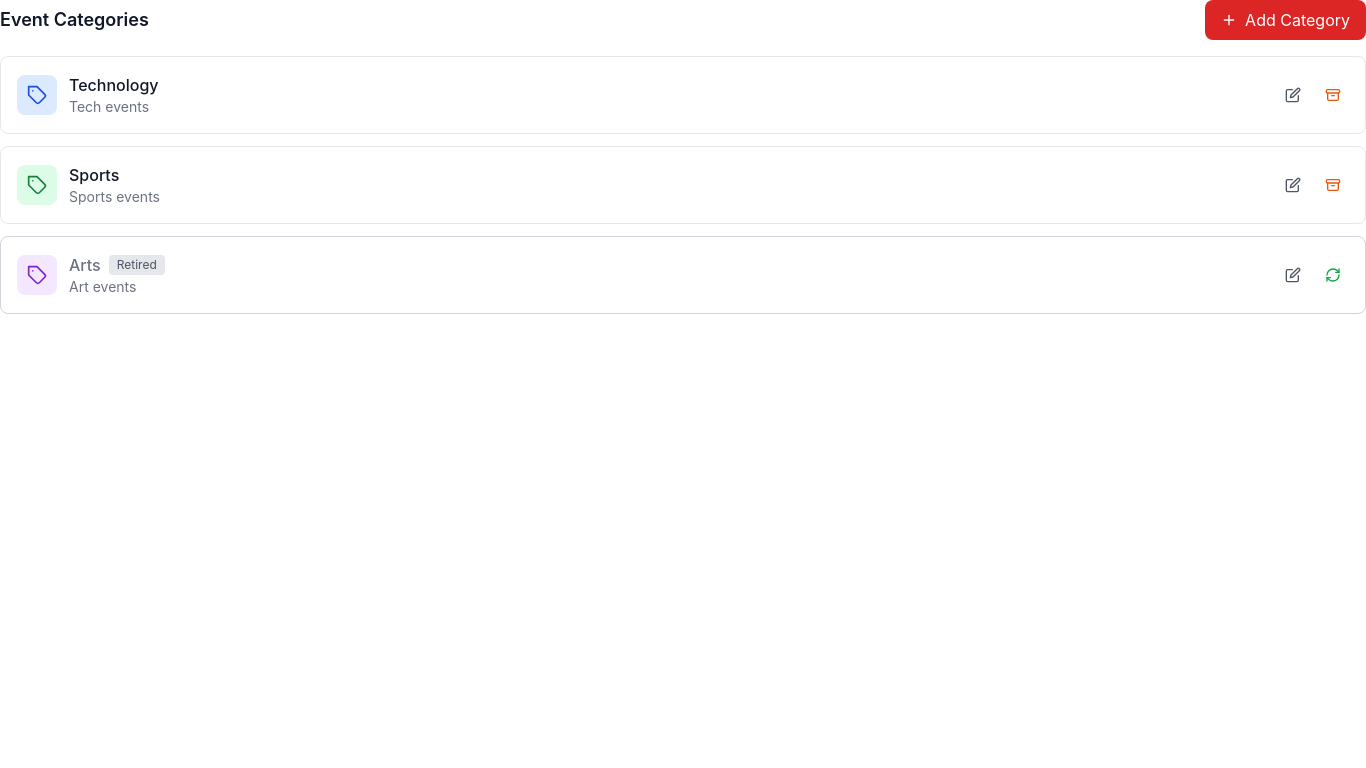
Test: CategoryVenueManager Component - Complete Coverage › Retire/Reactivate Functionality › cancels retire on cancel button
The width and height of the screenshot is (1366, 768).
Step 1. Click the button titled "Retire" in the row of "Technology" → (1333, 95), box x1=1317 y1=79 x2=1349 y2=111
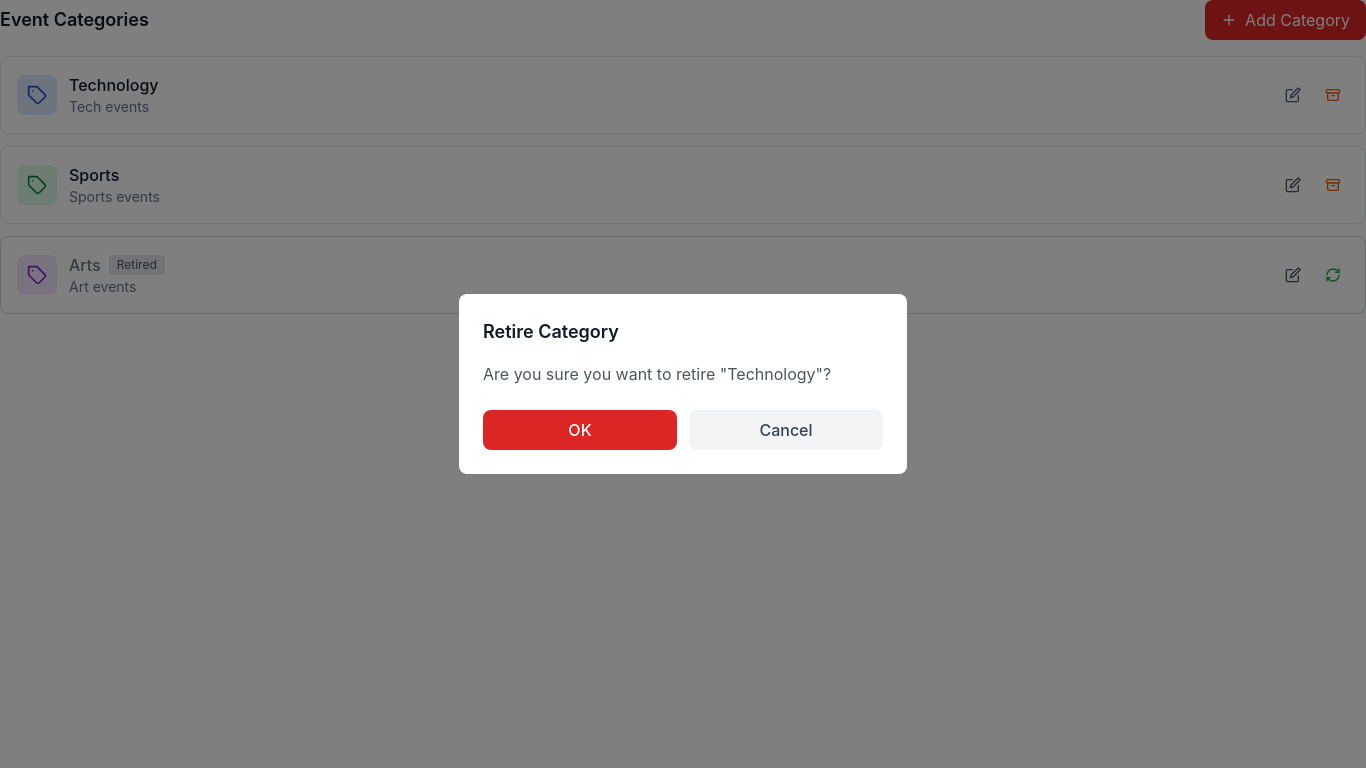
Step 2. Click the button "Cancel" → (786, 430), box x1=689 y1=410 x2=883 y2=450
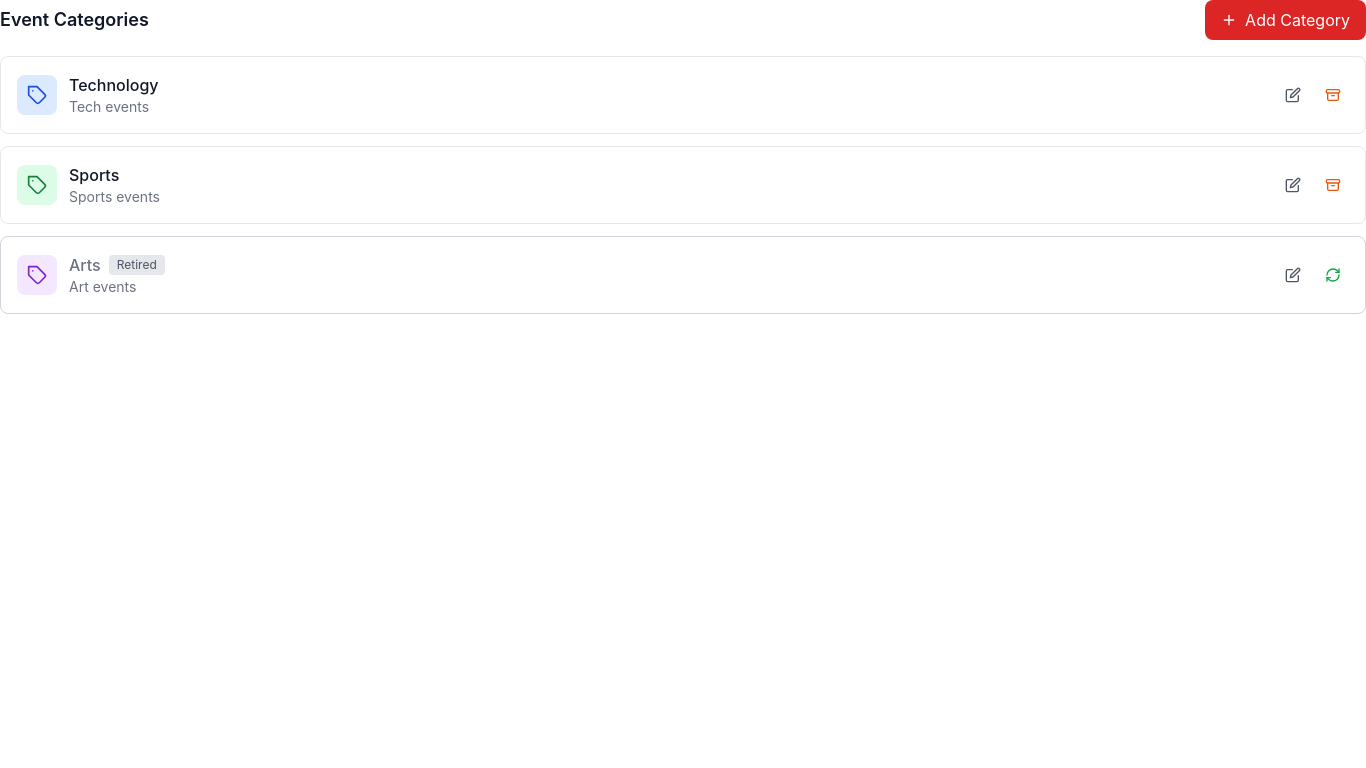
Check: the text "Are you sure you want to retire \"Technology\"?" is gone
